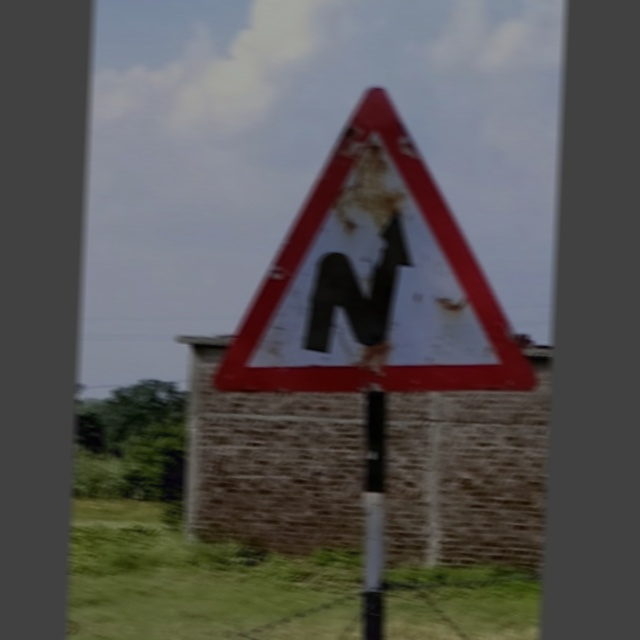Right_Reverse_Bend: (205, 80, 550, 392)
